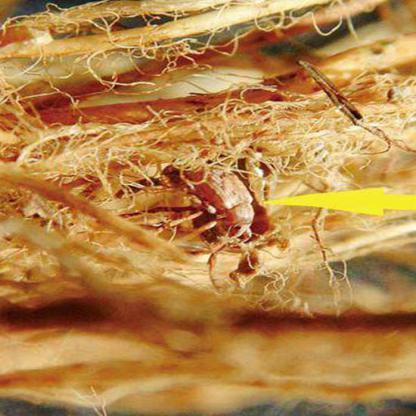rice-bug: (168, 153, 264, 251)
